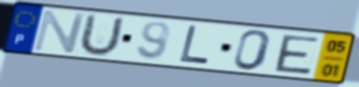0: (233, 28, 274, 72)
9: (135, 21, 173, 62)
E: (273, 34, 322, 77)
L: (177, 24, 212, 67)
N: (31, 9, 89, 54)
U: (75, 12, 127, 58)
